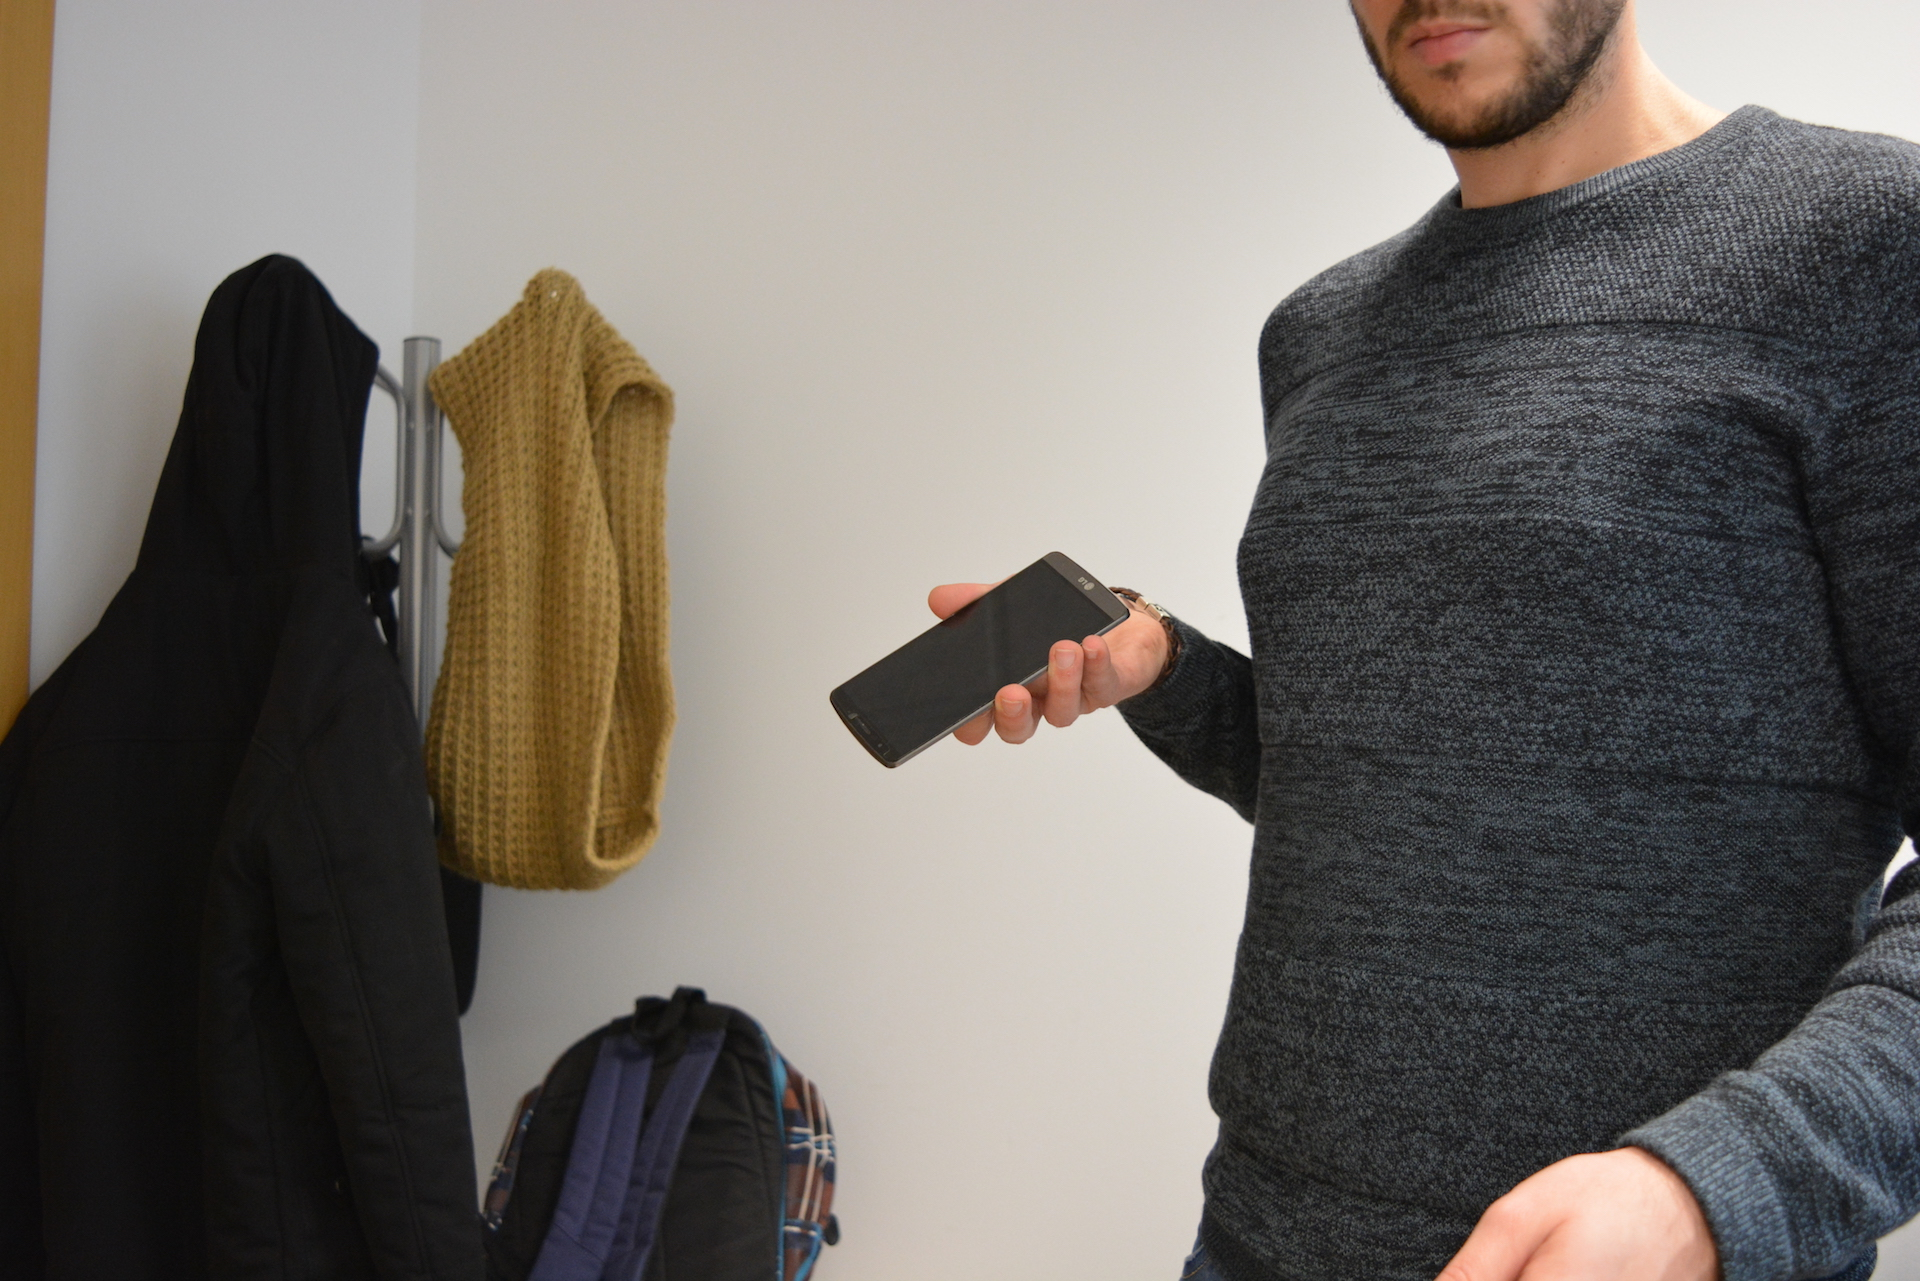smartphone: (829, 548, 1131, 771)
